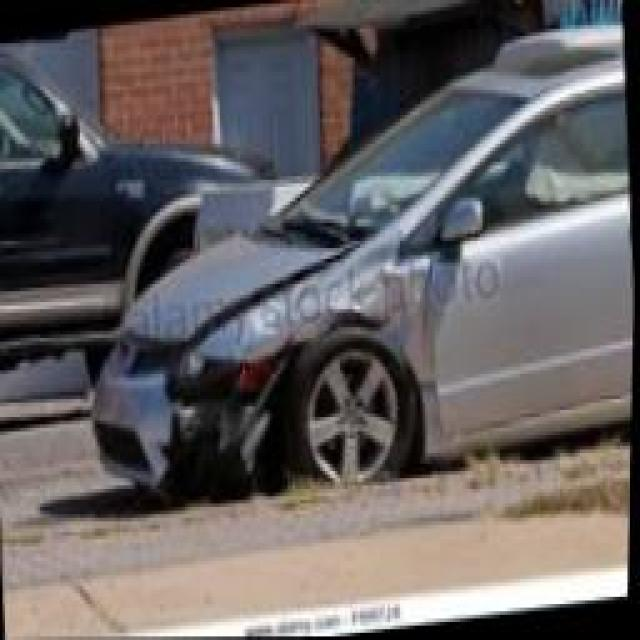Bumper: (92, 378, 222, 512)
Fender: (200, 259, 432, 376)
Light: (172, 338, 253, 393)
